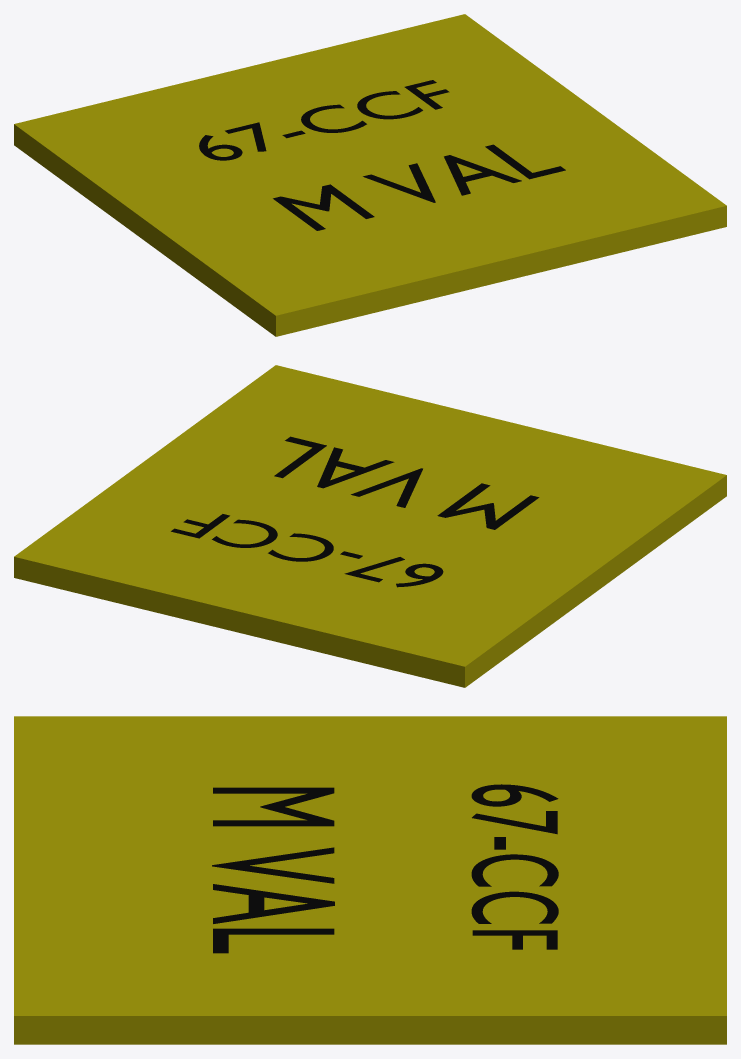
File: renault_ccfm_topC.glb
3 renders of one model, top to bottom at view 1: azimuth 30°, elevation 25°; view 2: azimuth 150°, elevation 25°; view 3: azimuth 270°, elevation 25°, orthographic. The views are drawn at different scales.
Parts seen in each view (by area): view 1: Cube.003, Text.007, Text.008; view 2: Cube.003, Text.007, Text.008; view 3: Cube.003, Text.007, Text.008.
Boxes of the visible parts, box(x1,y1,x2,y2) form: Cube.003: box(14, 14, 726, 336); Text.007: box(273, 144, 565, 230); Text.008: box(199, 80, 449, 160); Cube.003: box(14, 365, 726, 687); Text.007: box(274, 436, 539, 529); Text.008: box(171, 514, 443, 587); Cube.003: box(14, 716, 726, 1044); Text.007: box(212, 787, 334, 953); Text.008: box(471, 784, 558, 949).
Size of the model in its own units: 1.99 by 0.1031 by 2.
